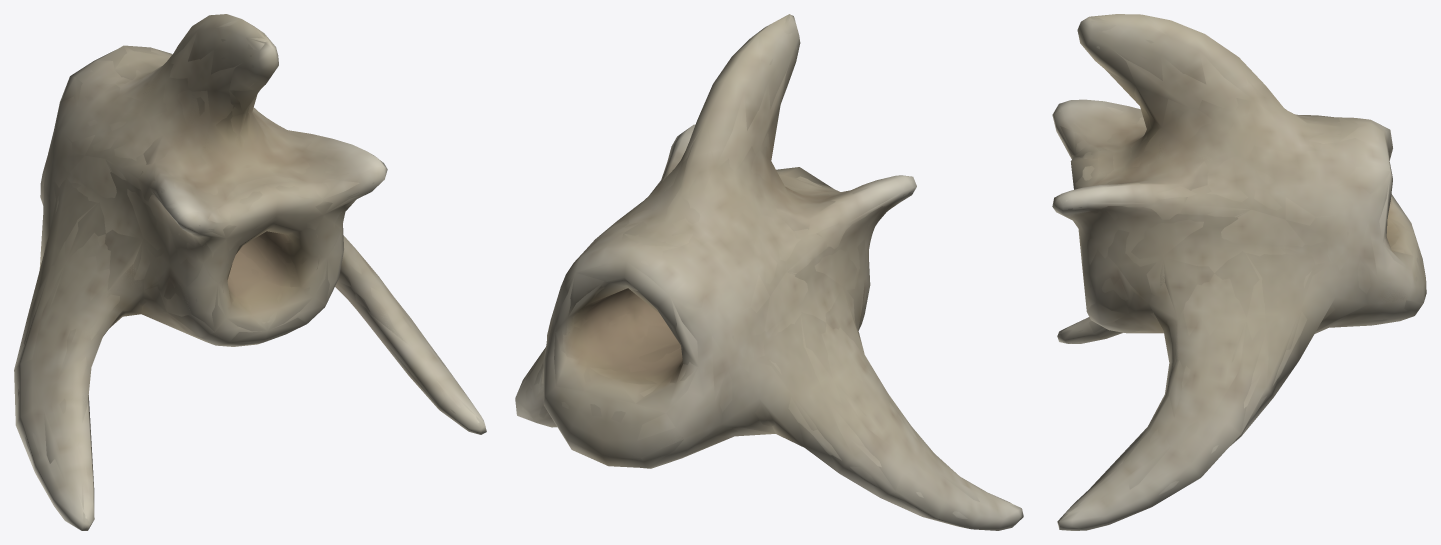
Rendered from vertebrae lumbales 6.fbx.
The picture shows the model from 3 angles, left to right: view 1: azimuth 30°, elevation 25°; view 2: azimuth 150°, elevation 25°; view 3: azimuth 270°, elevation 25°; orthographic projection. The views are drawn at different scales.
Parts seen in each view (by area): view 1: vertebrae lumbales 6, vertebrae lumbales 6 low, vertebrae lumbales 6 high; view 2: vertebrae lumbales 6, vertebrae lumbales 6 low, vertebrae lumbales 6 high; view 3: vertebrae lumbales 6, vertebrae lumbales 6 low, vertebrae lumbales 6 high.
Part boxes in pixels (<box>): vertebrae lumbales 6: <box>14,14,486,530</box>; vertebrae lumbales 6 low: <box>14,18,484,530</box>; vertebrae lumbales 6 high: <box>18,36,483,527</box>; vertebrae lumbales 6: <box>515,14,1023,530</box>; vertebrae lumbales 6 low: <box>516,14,1007,527</box>; vertebrae lumbales 6 high: <box>522,21,1007,518</box>; vertebrae lumbales 6: <box>1052,14,1426,530</box>; vertebrae lumbales 6 low: <box>1053,15,1423,526</box>; vertebrae lumbales 6 high: <box>1054,19,1419,525</box>.
Bounding box in the file's own units: 2.17 × 2.17 × 1.74.
1 material, 1 textured.
